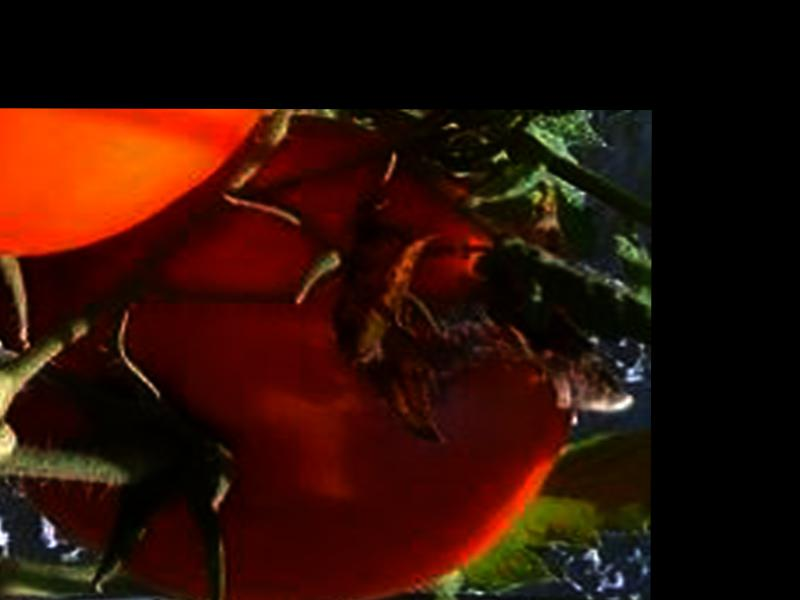Tomato: (1, 124, 578, 600)
